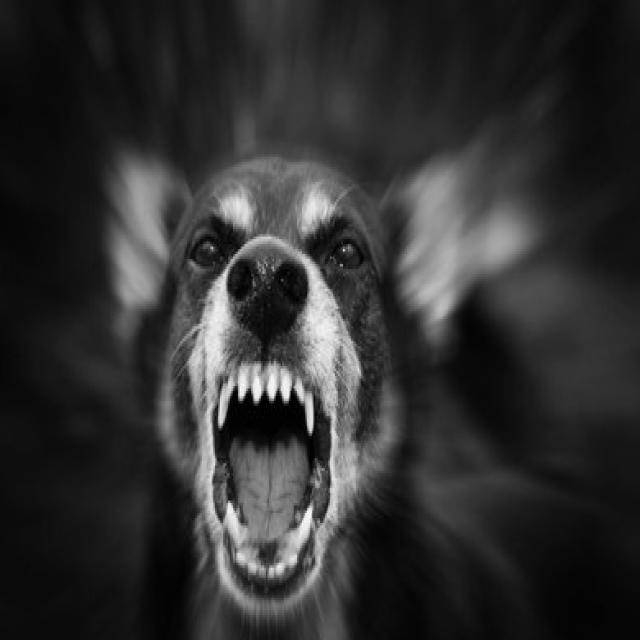angry: (130, 110, 415, 640)
